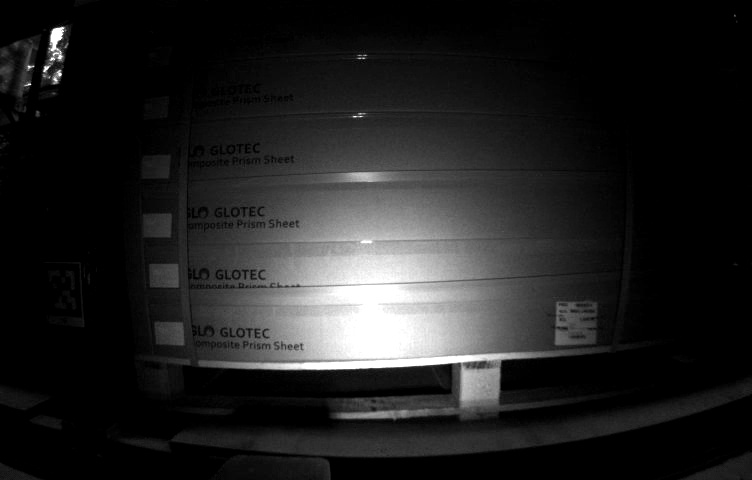True Barcode: (553, 298, 600, 349)
